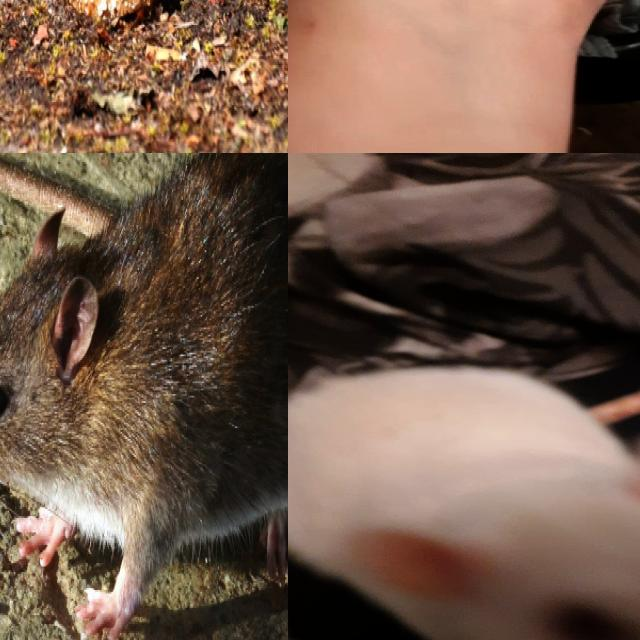rat: (0, 153, 288, 640), (288, 361, 640, 640)
